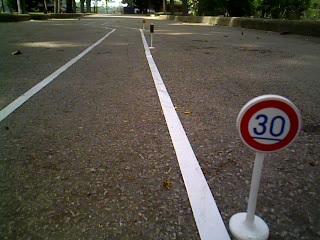limit 30: (235, 93, 303, 155)
